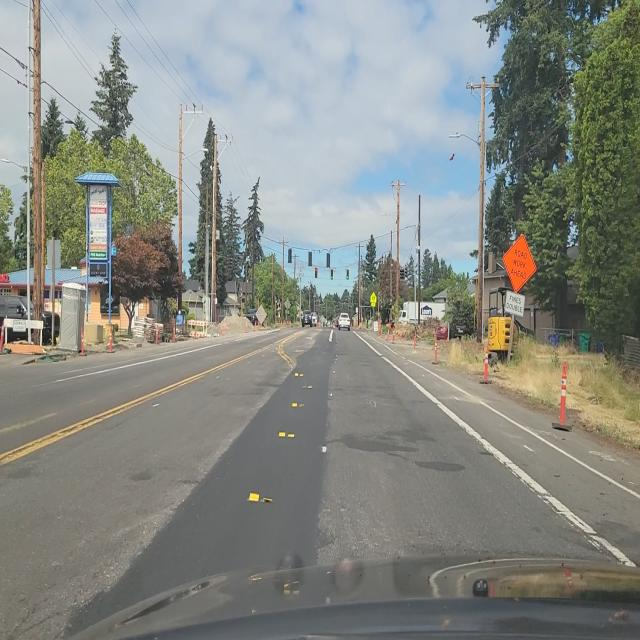car: (1, 296, 62, 346), (40, 311, 61, 346), (453, 323, 473, 340), (245, 308, 260, 327), (338, 312, 350, 331), (301, 310, 313, 328)
crosswalk-sign: (370, 294, 378, 331), (370, 292, 377, 304)
delineator: (558, 361, 568, 427), (479, 342, 492, 384), (432, 334, 439, 366), (108, 324, 114, 352), (80, 327, 86, 355), (0, 320, 5, 352), (412, 328, 418, 354), (392, 324, 396, 344), (221, 321, 226, 336), (398, 326, 403, 340), (386, 323, 390, 340), (377, 320, 381, 337), (155, 324, 158, 344), (172, 324, 175, 342), (244, 320, 248, 332)
